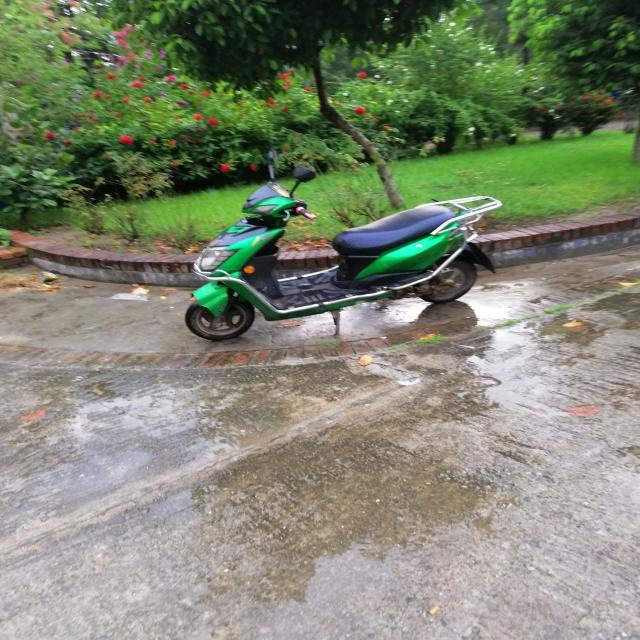Motorbike: (183, 150, 513, 352)
